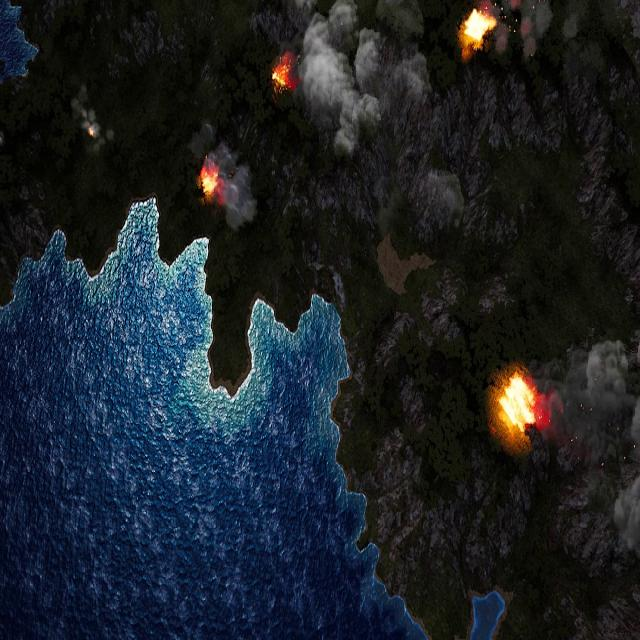fire: (499, 372, 537, 433), (460, 7, 494, 47), (272, 54, 296, 92), (199, 164, 223, 201), (89, 127, 96, 141)
smoke: (531, 244, 640, 574), (290, 3, 448, 163), (191, 120, 256, 232), (71, 80, 111, 156)
